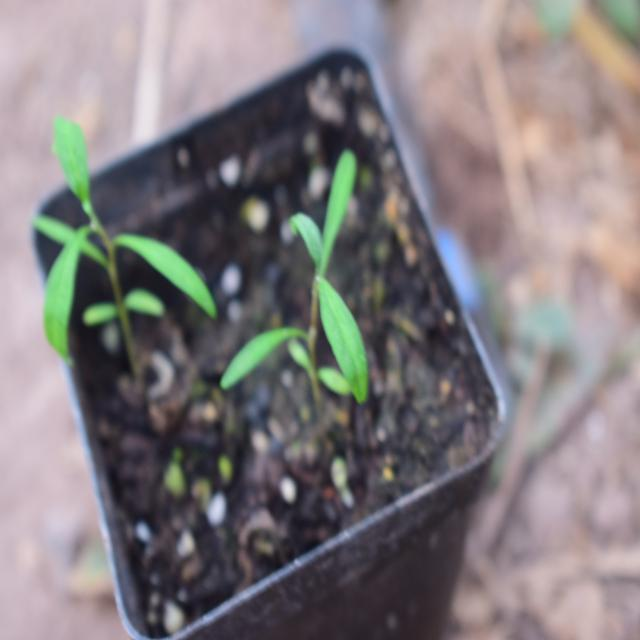white_smart_weed: (209, 147, 423, 436), (19, 110, 220, 363)
